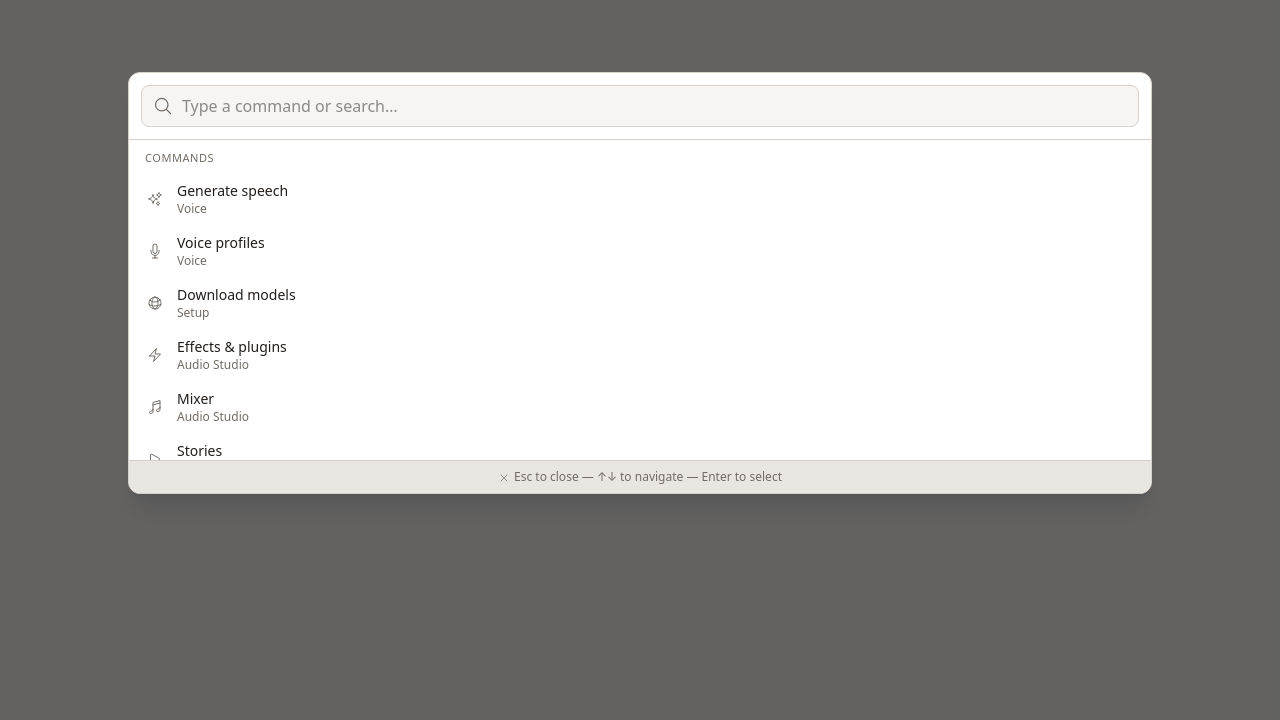
CommandPalette › searches the help catalog and opens Help Center with the query
Later steps or results of the test are not shown.
In the field with placeholder "Type a command or search…": (640, 106) [141,85,1139,127], type "voice clone"
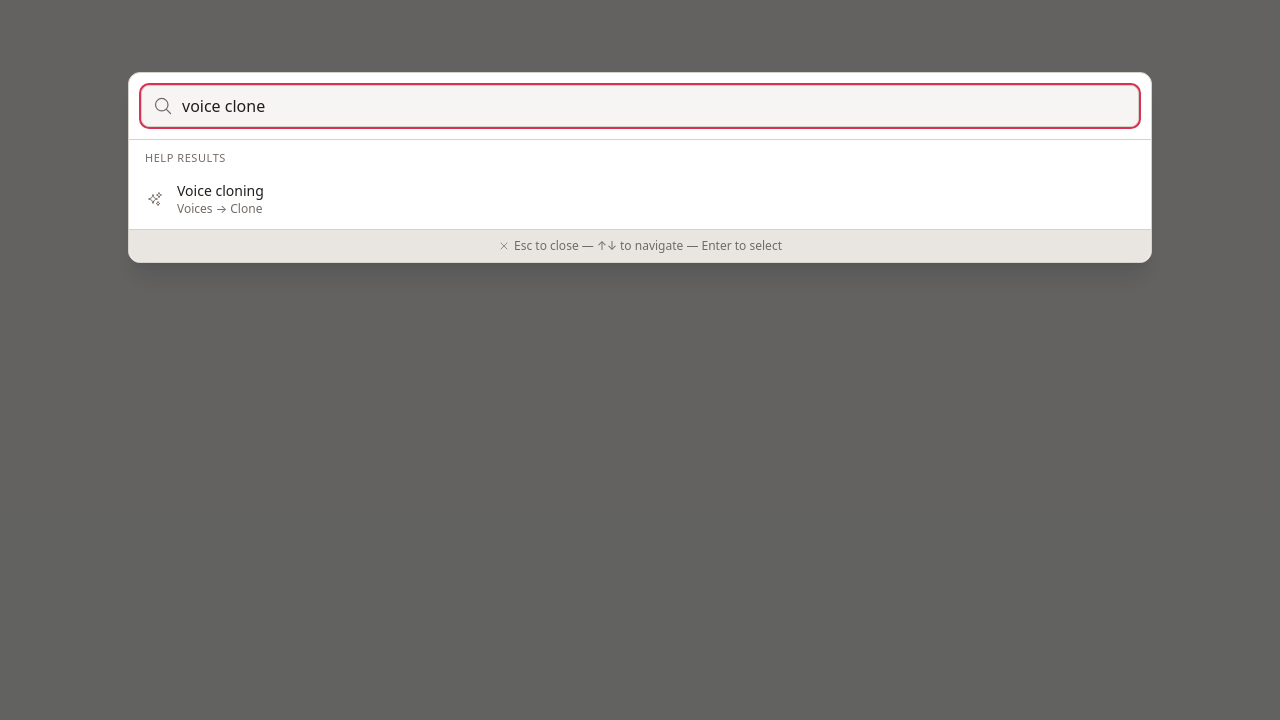
Expected: the text "Voice cloning" is shown, [177,180,264,200]
Expected: the text "Voices → Clone" is shown, [177,200,262,216]
